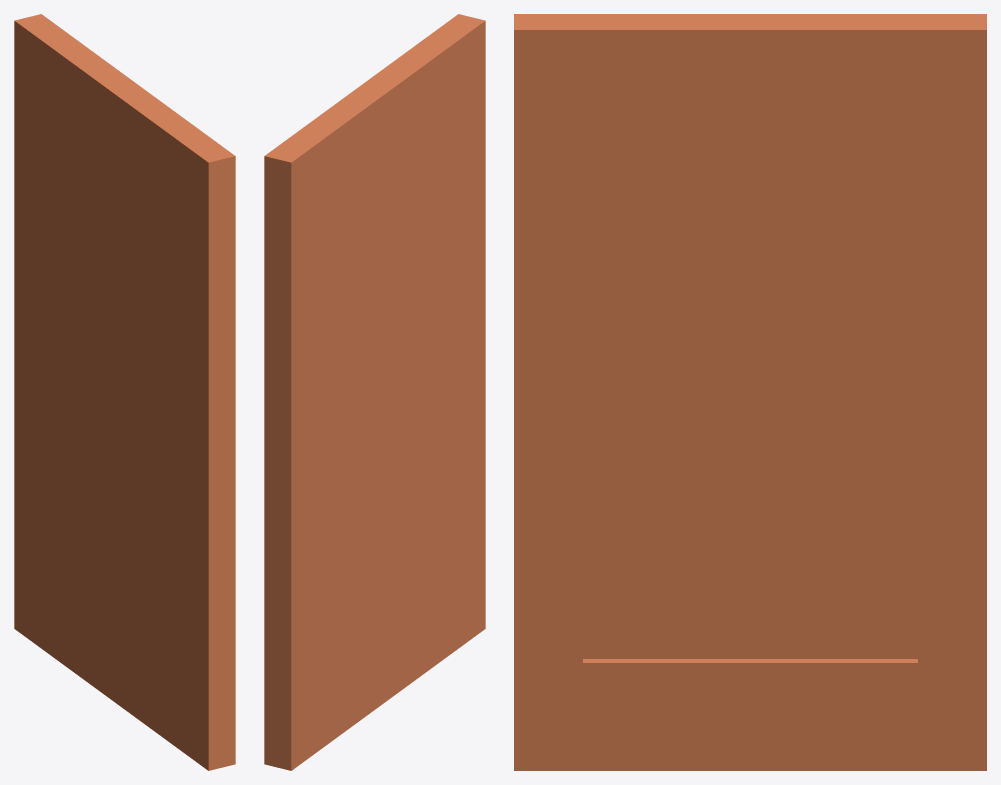
Rendered from Door.fbx.
3 views of the same model, side by side, from view 1: azimuth 30°, elevation 25°; view 2: azimuth 150°, elevation 25°; view 3: azimuth 270°, elevation 25° (orthographic). The views are drawn at different scales.
Parts seen in each view (by area): view 1: Cube; view 2: Cube; view 3: Cube.
Boxes of the visible parts, x1,y1,x2,y2 form: Cube: [14, 14, 235, 770]; Cube: [264, 14, 485, 770]; Cube: [514, 14, 986, 770].
Bounding box in the file's own units: 16.09 × 346 × 200.
